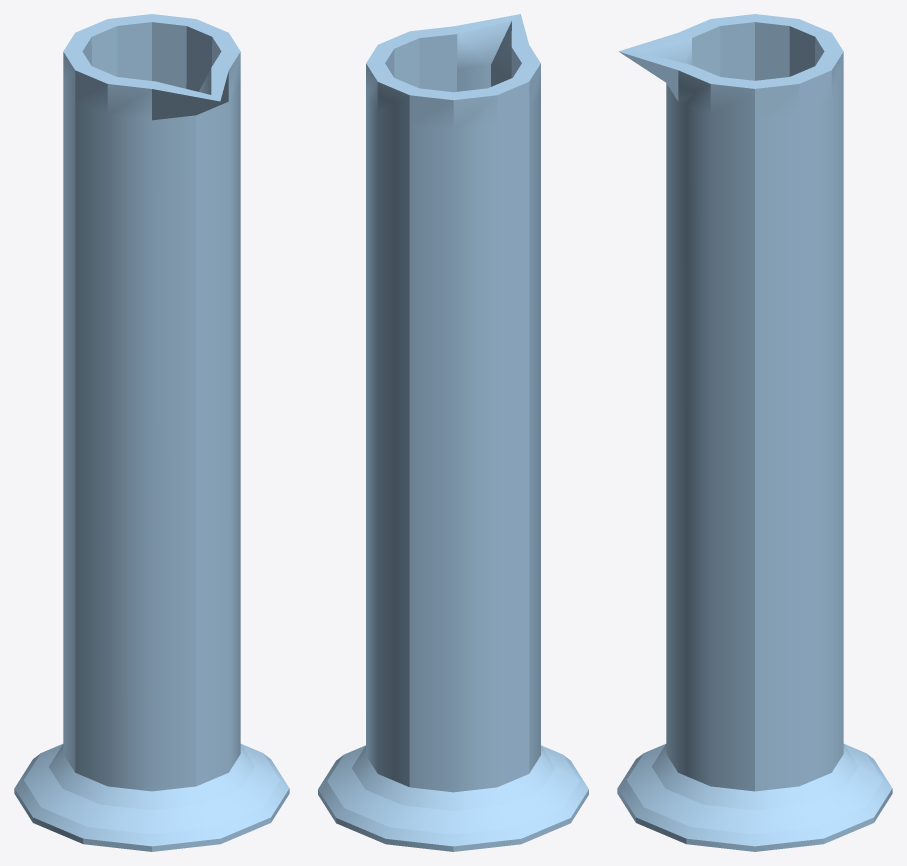
File: GraduatedCylinder_Empty_Colored_01.fbx
3 renders of one model, left to right at view 1: azimuth 30°, elevation 25°; view 2: azimuth 150°, elevation 25°; view 3: azimuth 270°, elevation 25°, orthographic.
Parts seen in each view (by area): view 1: GraduatedCylinder_Empty_Colored_01; view 2: GraduatedCylinder_Empty_Colored_01; view 3: GraduatedCylinder_Empty_Colored_01.
Part boxes in pixels (x1,y1,x2,y2): GraduatedCylinder_Empty_Colored_01: (14, 14, 289, 851); GraduatedCylinder_Empty_Colored_01: (318, 14, 588, 851); GraduatedCylinder_Empty_Colored_01: (617, 14, 892, 851).
Bounding box in the file's own units: 32.69 × 97.37 × 32.69.
